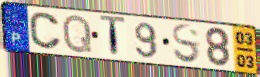8: (204, 26, 232, 68)
9: (133, 21, 160, 60)
C: (28, 11, 64, 51)
Q: (62, 13, 94, 55)
S: (170, 23, 202, 66)
T: (99, 14, 127, 60)
